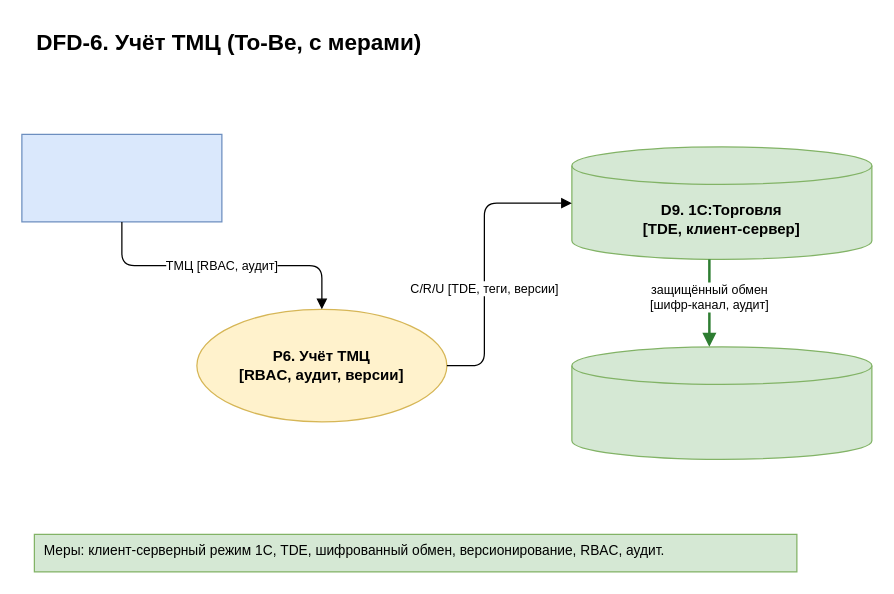
The diagram is 894 pixels wide and 594 high, and some of its shapes have lost their labels. Each missing label, with the box of its shape:
D7. 1С:Бухгалтерия [TDE, клиент-сервер]: (571, 346, 872, 459)
Кладовщик: (21, 133, 222, 222)
